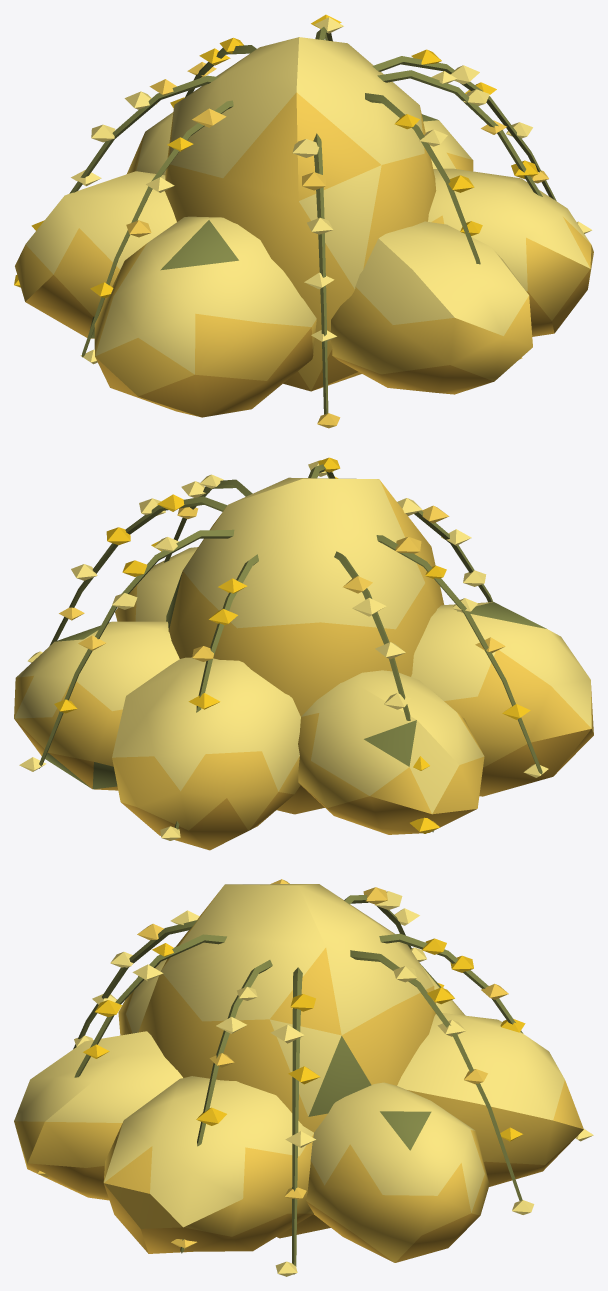
File: SC_Nat_Forsythia_Bush.gltf
3 renders of one model, top to bottom at view 1: azimuth 30°, elevation 25°; view 2: azimuth 150°, elevation 25°; view 3: azimuth 270°, elevation 25°, orthographic.
Visible parts, largest first — view 1: SC_Nat_Forsythia_Bush; view 2: SC_Nat_Forsythia_Bush; view 3: SC_Nat_Forsythia_Bush.
Boxes of the visible parts, bbox=[...] form: SC_Nat_Forsythia_Bush: bbox=[14, 14, 593, 428]; SC_Nat_Forsythia_Bush: bbox=[14, 457, 593, 850]; SC_Nat_Forsythia_Bush: bbox=[14, 879, 593, 1276].
Bounding box in the file's own units: 2.54 × 1.42 × 2.43.
1 material, 1 textured.
